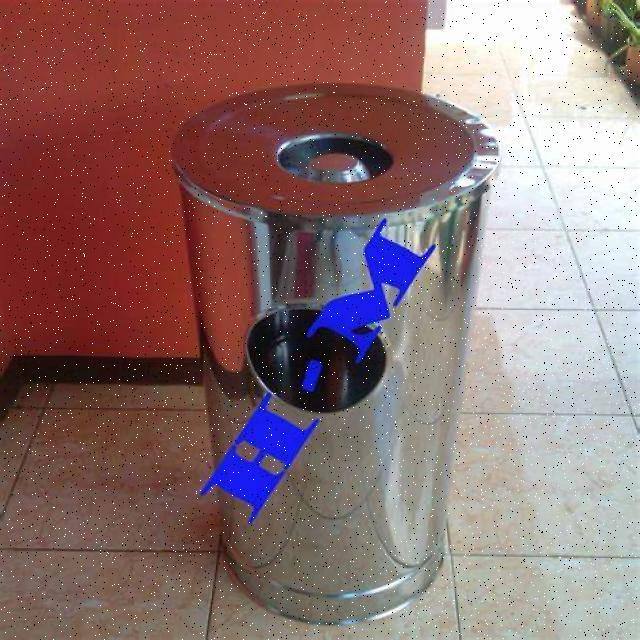garbage container: (166, 73, 532, 632)
